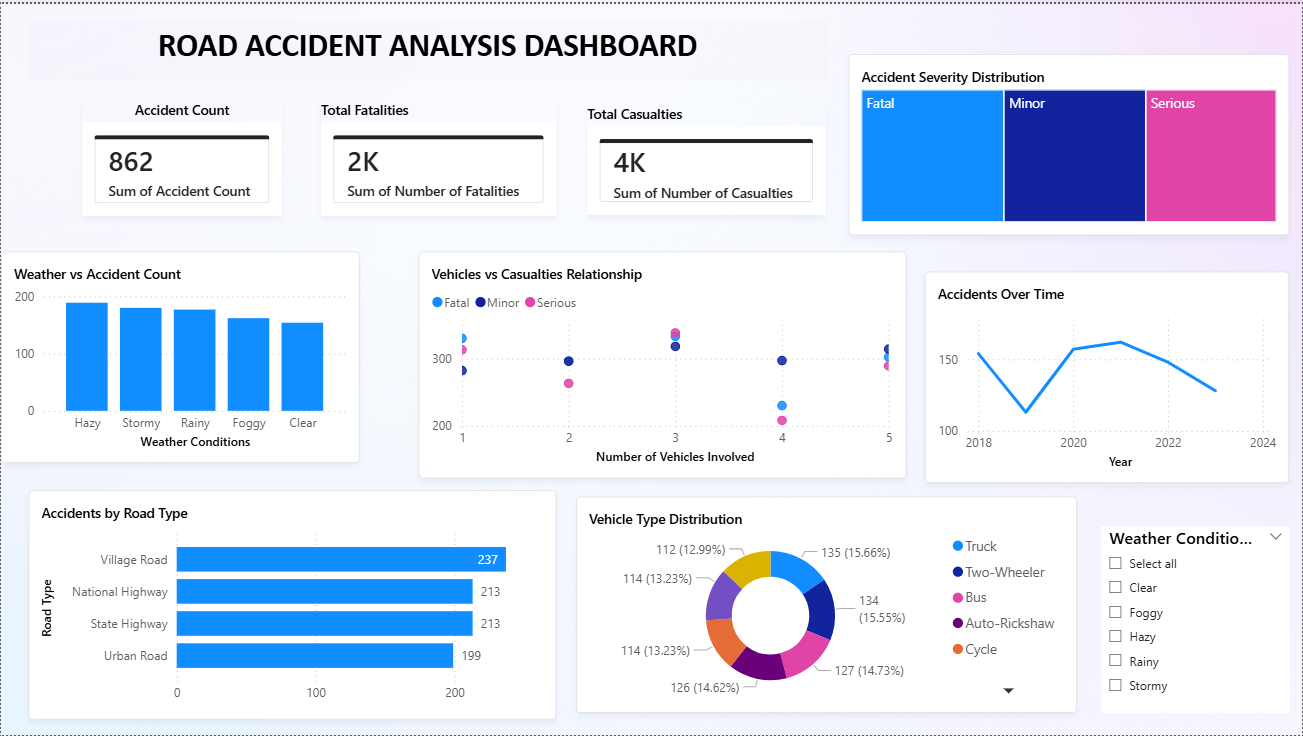

The dashboard page shown, as its layout file describes it:
{"tool":"powerbi","page":{"name":"ROAD_ACCIDENT_ANALYSIS","canvas":[1280,720],"ordinal":0},"visuals":[{"type":"cardVisual","title":"Accident Count","fields":{"Data":["Sum(67f16886d4ecb.Accident Count)"]},"box":[79.7,94.5,196.3,113.7],"z":0},{"type":"clusteredColumnChart","title":"Weather vs Accident Count","fields":{"Category":["67f16886d4ecb.Weather Conditions"],"Y":["Sum(67f16886d4ecb.Accident Count)"]},"box":[0,243.5,352.8,208.1],"z":2000},{"type":"clusteredBarChart","title":"Accidents by Road Type","fields":{"Category":["67f16886d4ecb.Road Type"],"Y":["Sum(67f16886d4ecb.Accident Count)"]},"box":[26.6,478.2,519.6,225.8],"z":3000},{"type":"cardVisual","title":"Total Fatalities","fields":{"Data":["Sum(67f16886d4ecb.Number of Fatalities)"]},"box":[314.4,94.5,231.7,113.7],"z":5000},{"type":"cardVisual","title":"Total Casualties","fields":{"Data":["Sum(67f16886d4ecb.Number of Casualties)"]},"box":[577.1,98.9,234.7,109.2],"z":6000},{"type":"scatterChart","title":"Vehicles vs Casualties Relationship","fields":{"X":["67f16886d4ecb.Number of Vehicles Involved"],"Y":["Sum(67f16886d4ecb.Number of Casualties)"],"Series":["67f16886d4ecb.Accident Severity"]},"box":[410.3,243.5,479.7,222.9],"z":8000},{"type":"treemap","title":"Accident Severity Distribution","fields":{"Values":["Sum(67f16886d4ecb.Accident Count)"],"Group":["67f16886d4ecb.Accident Severity"]},"box":[833.9,48.7,433.9,178.6],"z":9000},{"type":"lineChart","title":"Accidents Over Time","fields":{"Category":["67f16886d4ecb.Year"],"Y":["Sum(67f16886d4ecb.Accident Count)"]},"box":[909.2,262.7,358.7,208.1],"z":9001},{"type":"slicer","fields":{"Values":["67f16886d4ecb.Weather Conditions"]},"box":[1081.9,513.7,186,183],"z":9002},{"type":"donutChart","title":"Vehicle Type Distribution","fields":{"Category":["67f16886d4ecb.Vehicle Type Involved"],"Y":["Sum(67f16886d4ecb.Accident Count)"]},"box":[565.3,484.1,493,212.5],"z":9003},{"type":"textbox","box":[26.6,16.2,785.2,59],"z":9004}]}

Visuals, with their boxes in screenshot pixels (x1, y1, x2, y2), scaled from the page's 1280x720 canvas onto the 1303x736 screenshot:
"Accident Count" cardVisual: select_region(81, 97, 281, 213)
"Weather vs Accident Count" clusteredColumnChart: select_region(0, 249, 359, 462)
"Accidents by Road Type" clusteredBarChart: select_region(27, 489, 556, 720)
"Total Fatalities" cardVisual: select_region(320, 97, 556, 213)
"Total Casualties" cardVisual: select_region(587, 101, 826, 213)
"Vehicles vs Casualties Relationship" scatterChart: select_region(418, 249, 906, 477)
"Accident Severity Distribution" treemap: select_region(849, 50, 1291, 232)
"Accidents Over Time" lineChart: select_region(926, 269, 1291, 481)
slicer - 67f16886d4ecb.Weather Conditions: select_region(1101, 525, 1291, 712)
"Vehicle Type Distribution" donutChart: select_region(575, 495, 1077, 712)
textbox: select_region(27, 17, 826, 77)
